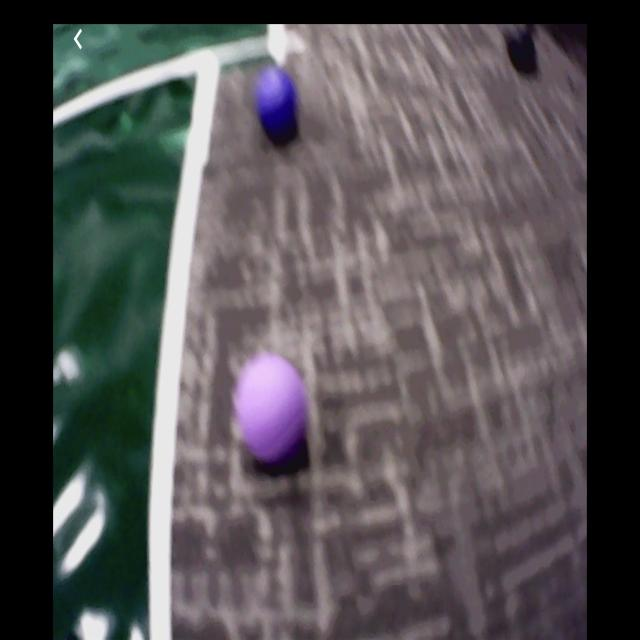ball: (240, 357, 305, 463), (258, 68, 297, 134)
